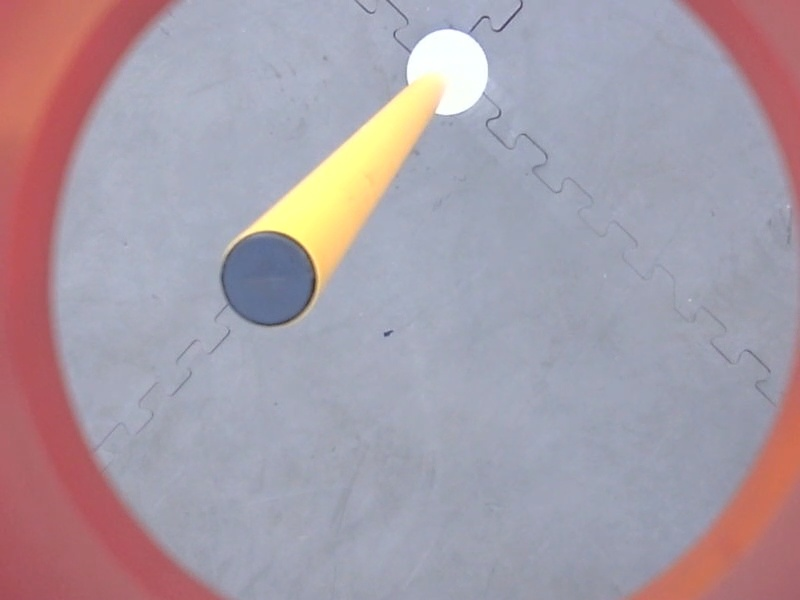tip: (212, 225, 327, 338)
